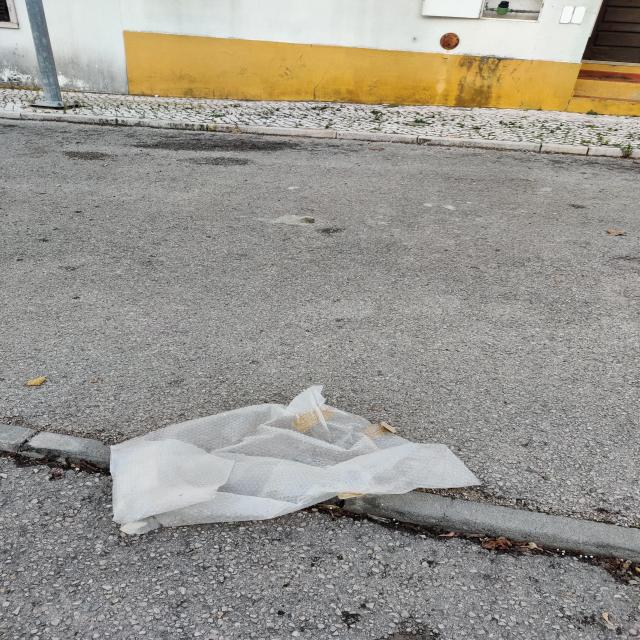litter: (94, 368, 490, 558)
